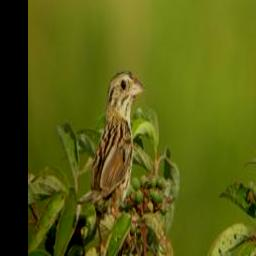Sparrow: (75, 66, 145, 256)
